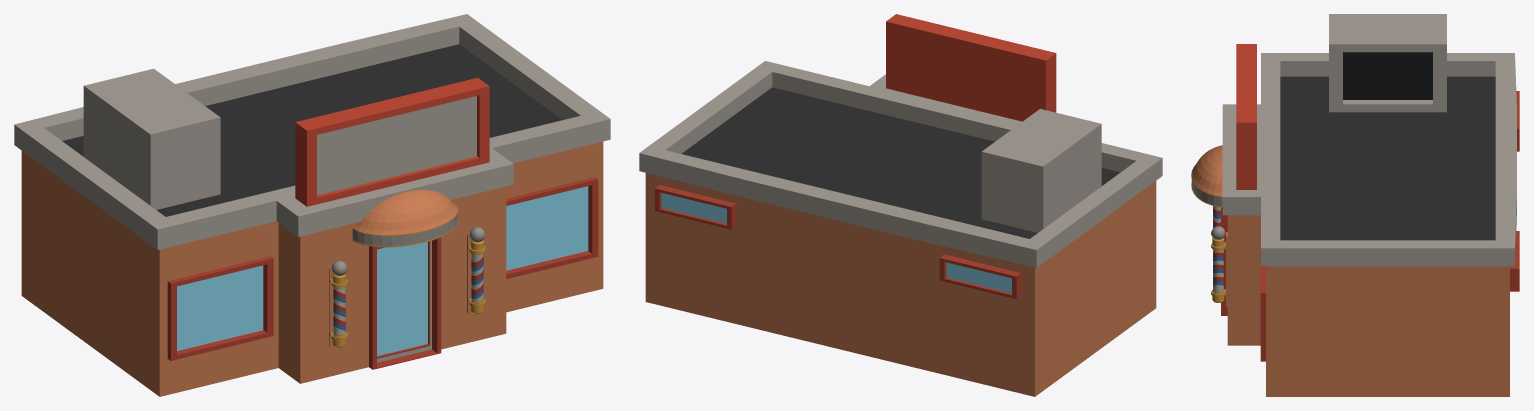
File: SM_Barbershop_01.gltf
3 renders of one model, left to right at view 1: azimuth 30°, elevation 25°; view 2: azimuth 150°, elevation 25°; view 3: azimuth 270°, elevation 25°, orthographic. The views are drawn at different scales.
Visible parts, largest first — view 1: SM_Barbershop_01; view 2: SM_Barbershop_01; view 3: SM_Barbershop_01.
Part boxes in pixels (x1,y1,x2,y2): SM_Barbershop_01: (14, 14, 610, 396); SM_Barbershop_01: (639, 14, 1162, 396); SM_Barbershop_01: (1191, 14, 1519, 396).
Size of the model in its own units: 4.37 by 2.27 by 3.1.
